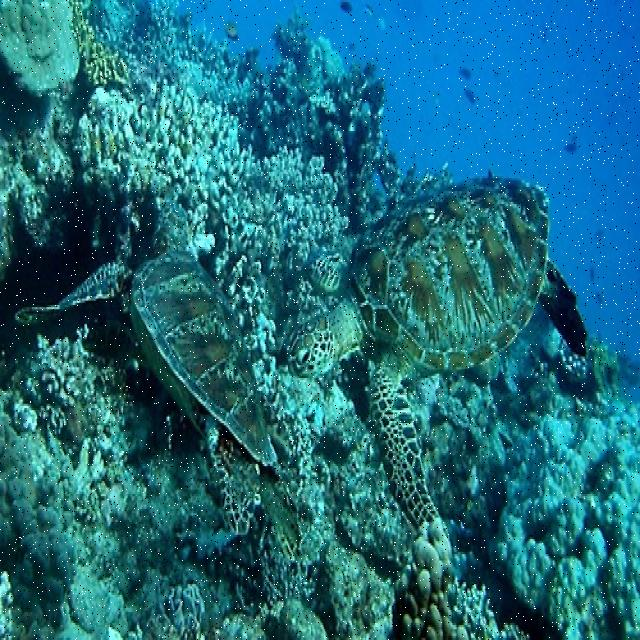fish: (278, 170, 588, 535), (13, 181, 279, 532)
reefs: (0, 1, 639, 638)
